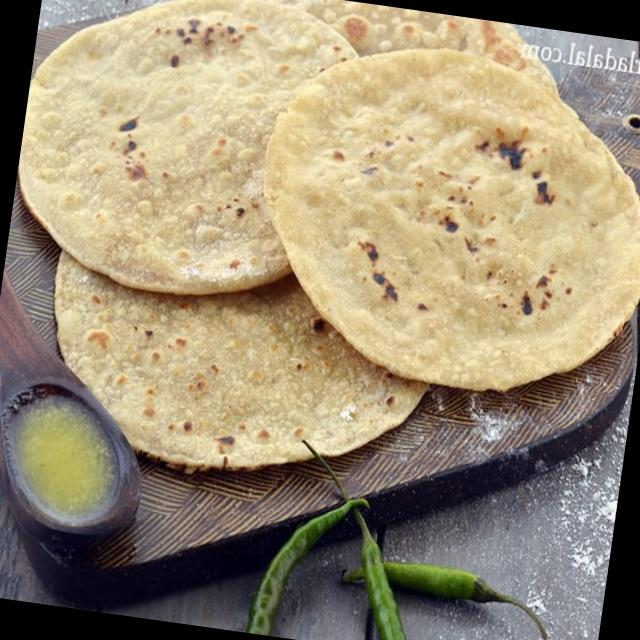roti: (21, 0, 640, 465)
